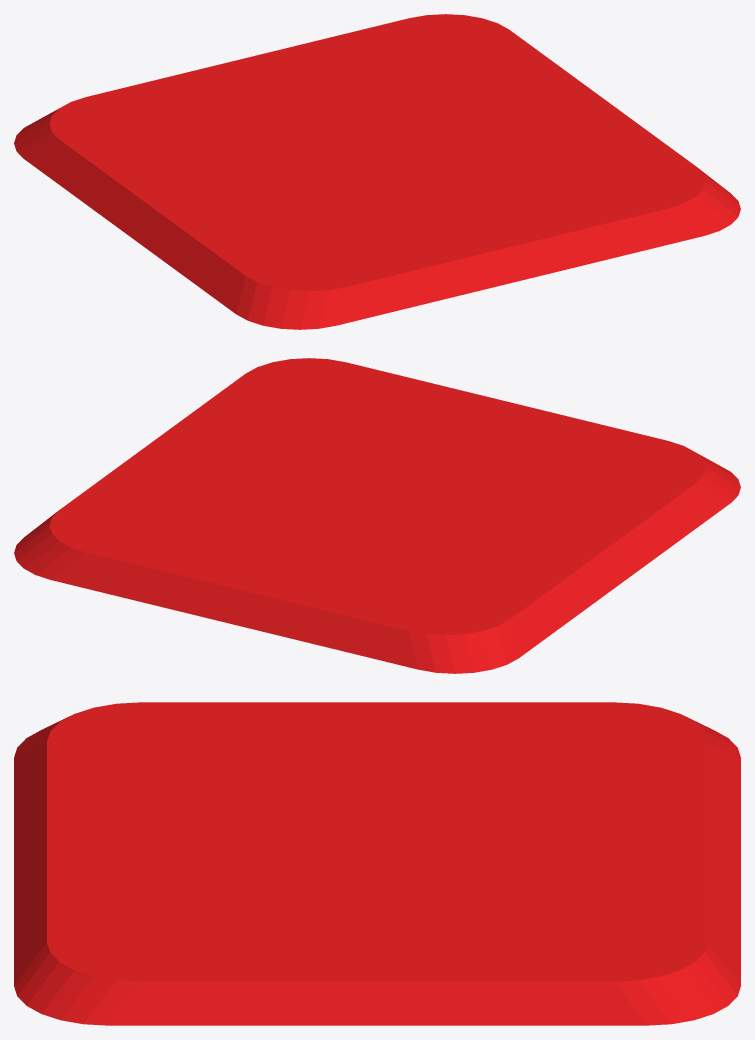
File: Red.fbx
3 views of the same model, one above another, from view 1: azimuth 30°, elevation 25°; view 2: azimuth 150°, elevation 25°; view 3: azimuth 270°, elevation 25° (orthographic). The views are drawn at different scales.
Parts seen in each view (by area): view 1: Cube.002; view 2: Cube.002; view 3: Cube.002.
Boxes of the visible parts, left/top/right/bottom form: Cube.002: left=14, top=14, right=740, bottom=329; Cube.002: left=14, top=358, right=740, bottom=673; Cube.002: left=14, top=702, right=740, bottom=1025.
Size of the model in its own units: 220 by 10 by 220.
